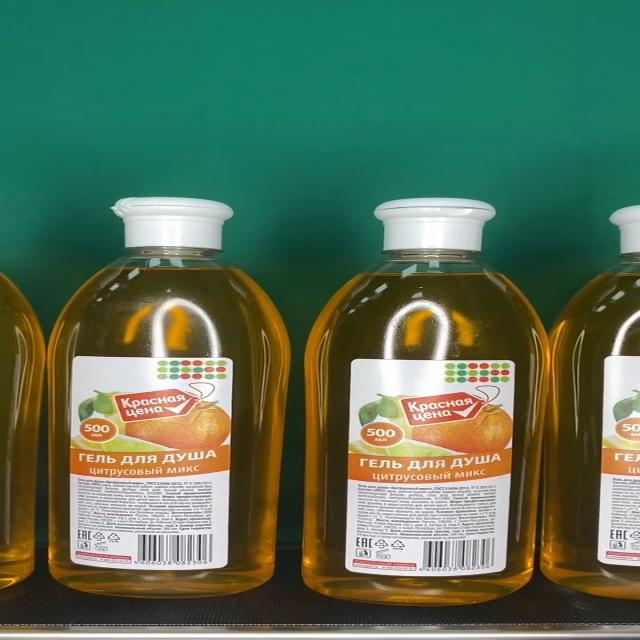Bottle: (302, 199, 549, 604), (46, 197, 290, 598)
Cap: (374, 198, 498, 251), (115, 198, 234, 248)
